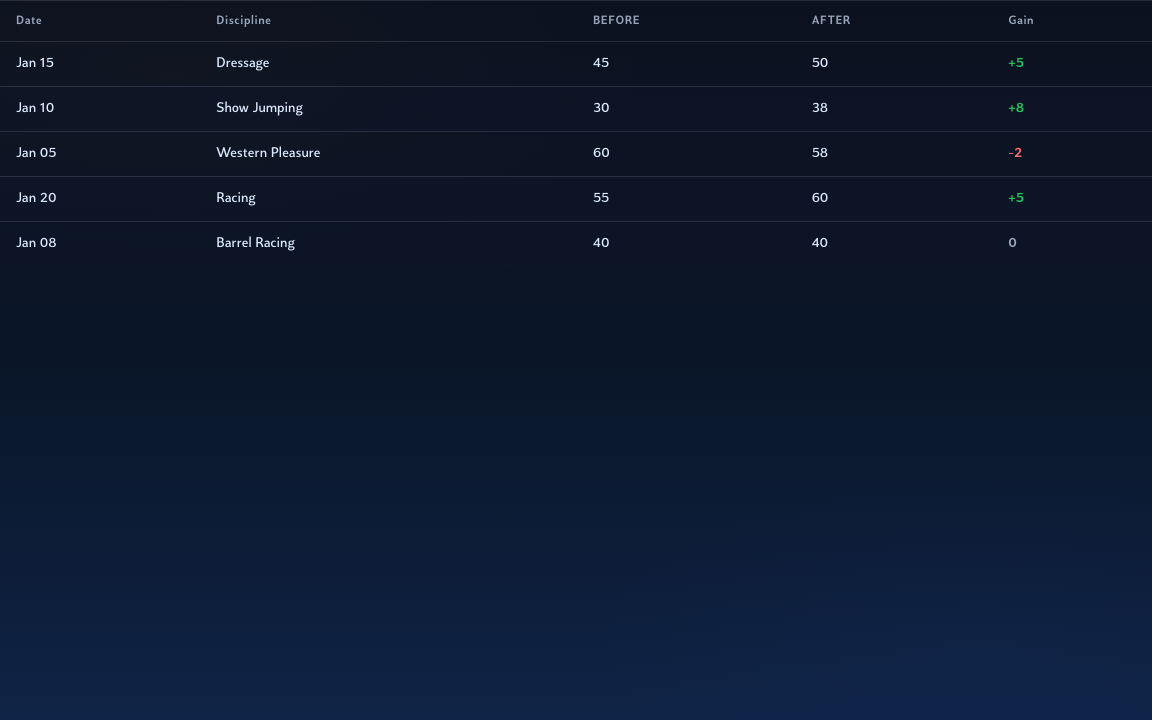
Test case: TrainingHistoryTable › Sorting › should show sort indicator for current sort direction
This screenshot has width=1152, height=720.
Click the button with test id "sort-date". click: (29, 21)
box: 16,13 -> 42,29
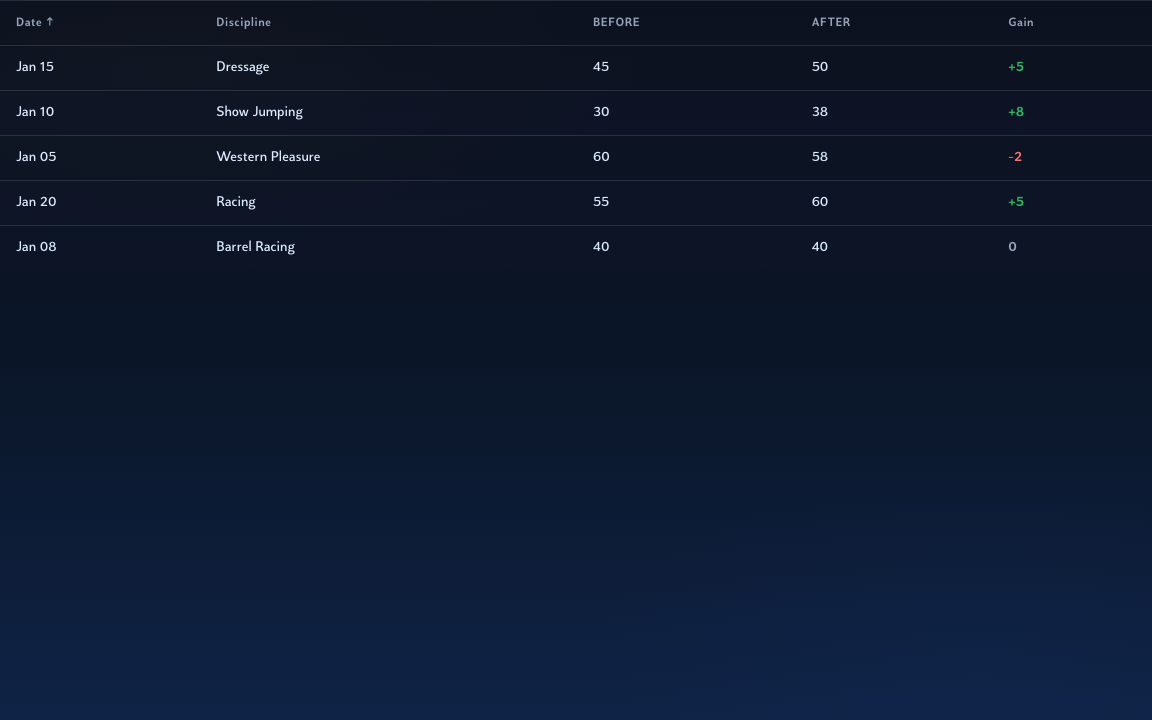
Result: the text with test id "sort-indicator-date" reads "↑" at 46,15 -> 54,30
Click the button with test id "sort-date". click: (35, 23)
box: 16,13 -> 54,33
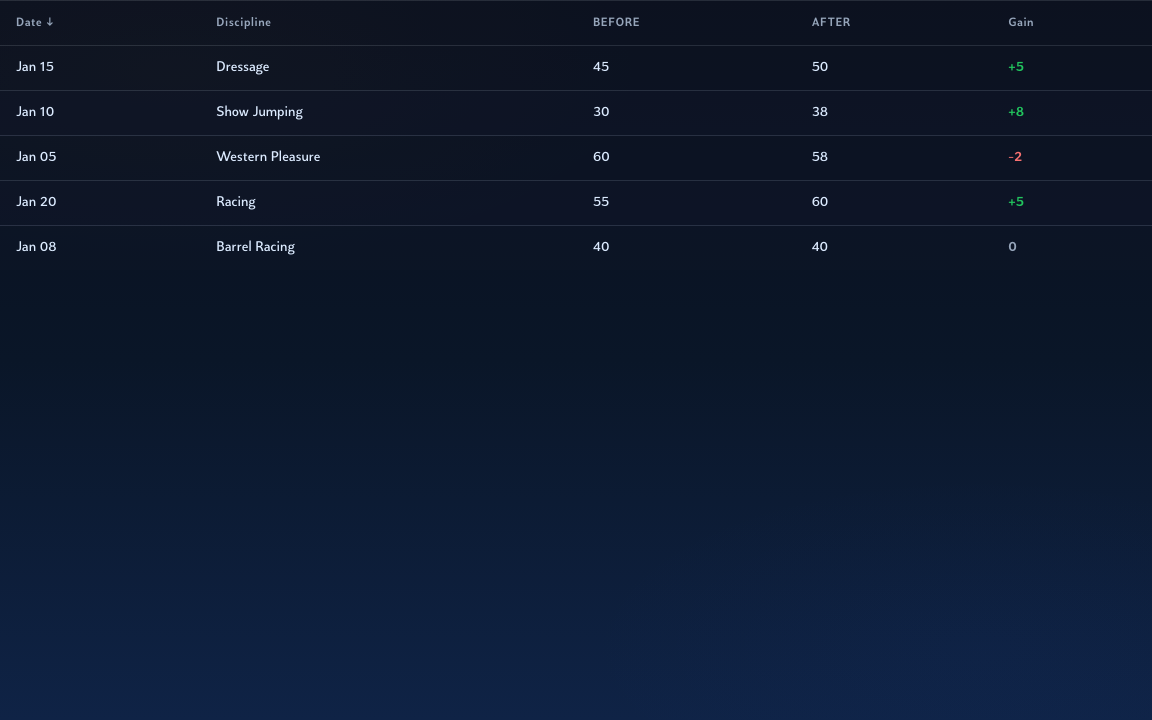
Result: the text with test id "sort-indicator-date" reads "↓" at 46,15 -> 54,30
